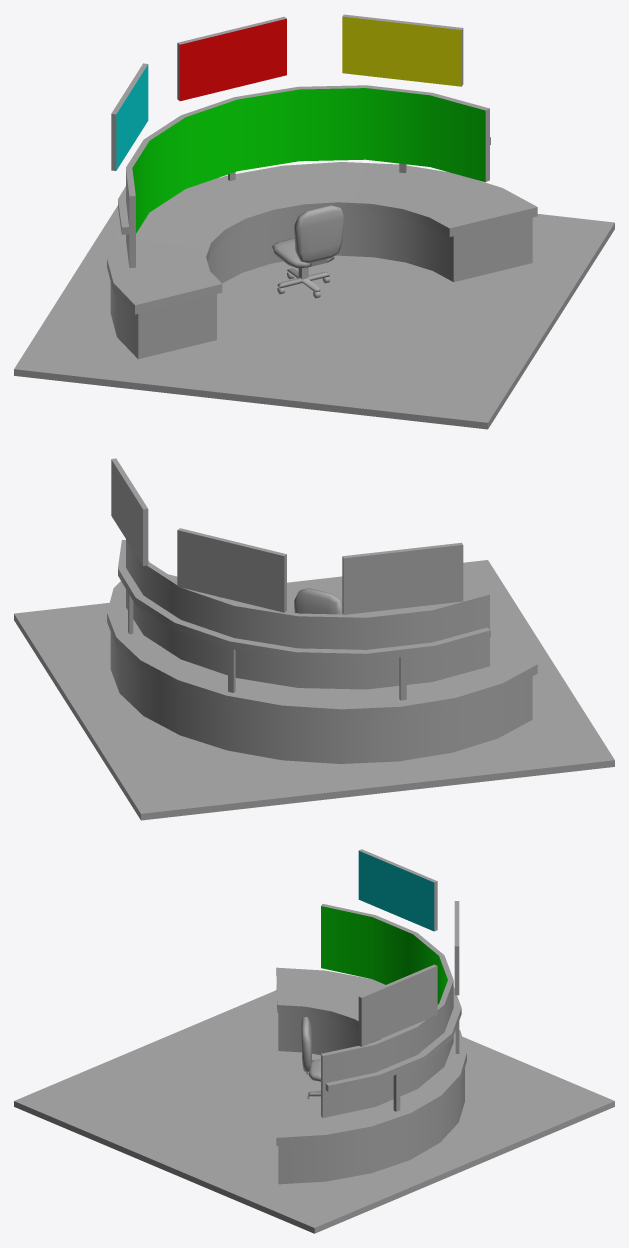
File: Control_Room.fbx
3 views of the same model, one above another, from view 1: azimuth 30°, elevation 25°; view 2: azimuth 150°, elevation 25°; view 3: azimuth 270°, elevation 25° (orthographic). The views are drawn at different scales.
Visible parts, largest first — view 1: ControlRoom, Main_Screen, Top_right_screen, Top_mid_screen, Chair, Top_left_screen; view 2: ControlRoom, Chair; view 3: ControlRoom, Main_Screen, Top_left_screen, Chair.
Boxes of the visible parts, x1,y1,x2,y2 form: ControlRoom: (14,14,614,429); Main_Screen: (132,88,485,233); Top_right_screen: (342,16,461,86); Top_mid_screen: (180,18,286,101); Chair: (272,205,344,298); Top_left_screen: (116,64,148,170); ControlRoom: (14,458,614,820); Chair: (294,588,343,614); ControlRoom: (14,849,614,1233); Main_Screen: (321,906,447,1004); Top_left_screen: (358,851,434,931); Chair: (301,1017,320,1098).
Bounding box in the file's own units: 5.38 × 1.81 × 5.38.
